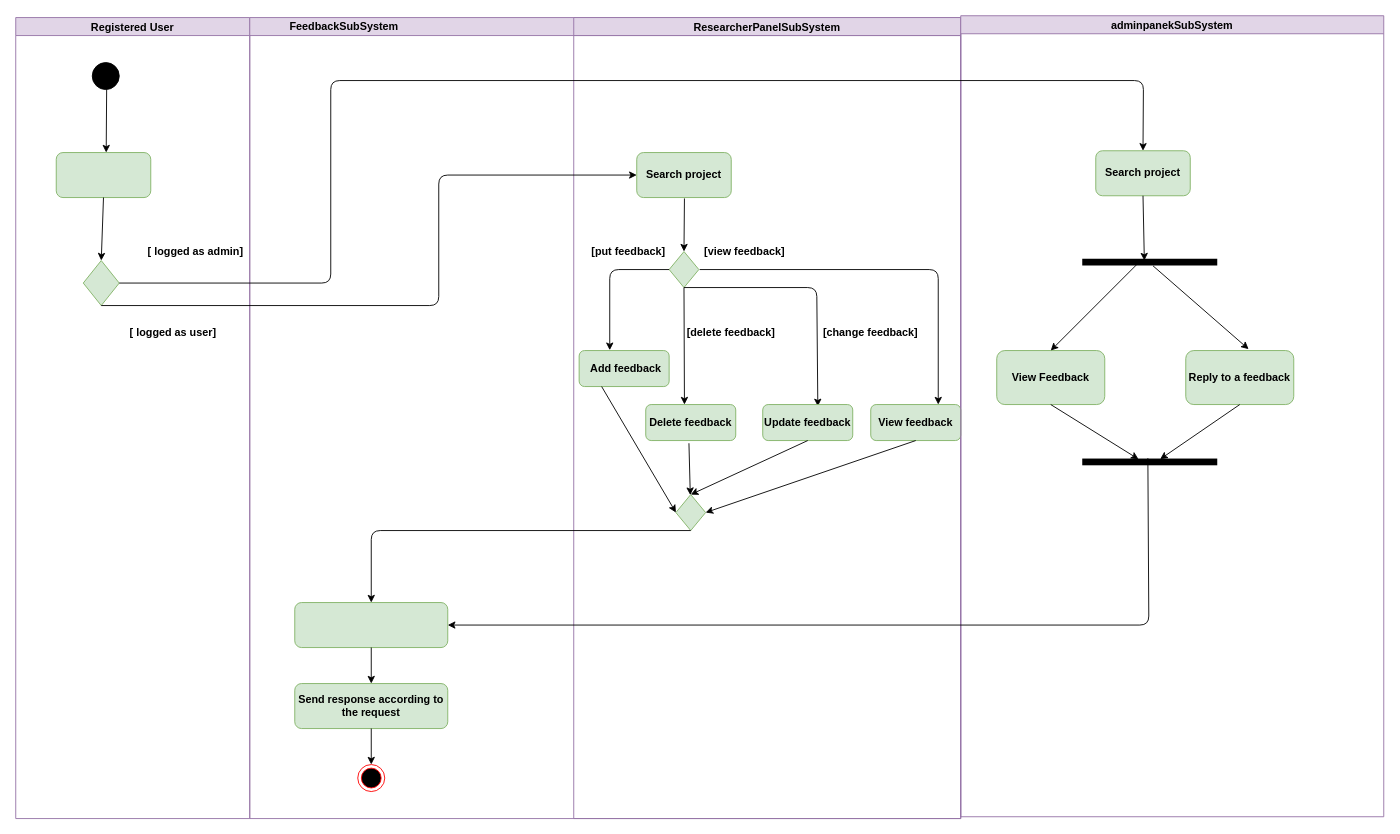
The diagram is 1400 pixels wide and 834 high, and some of its shapes have lost their labels. Each missing label, with the centre of its shape:
Execute DB operation: the point at 371,625
Login: the point at 103,175
